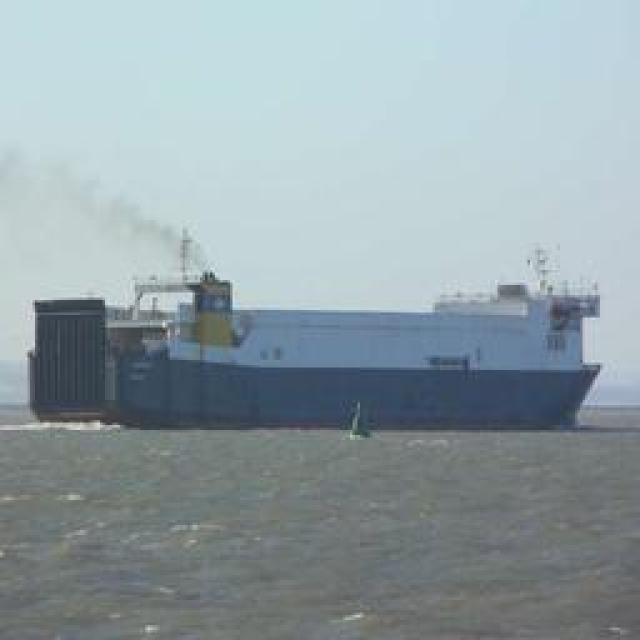CIV_Ship: (80, 255, 612, 428)
